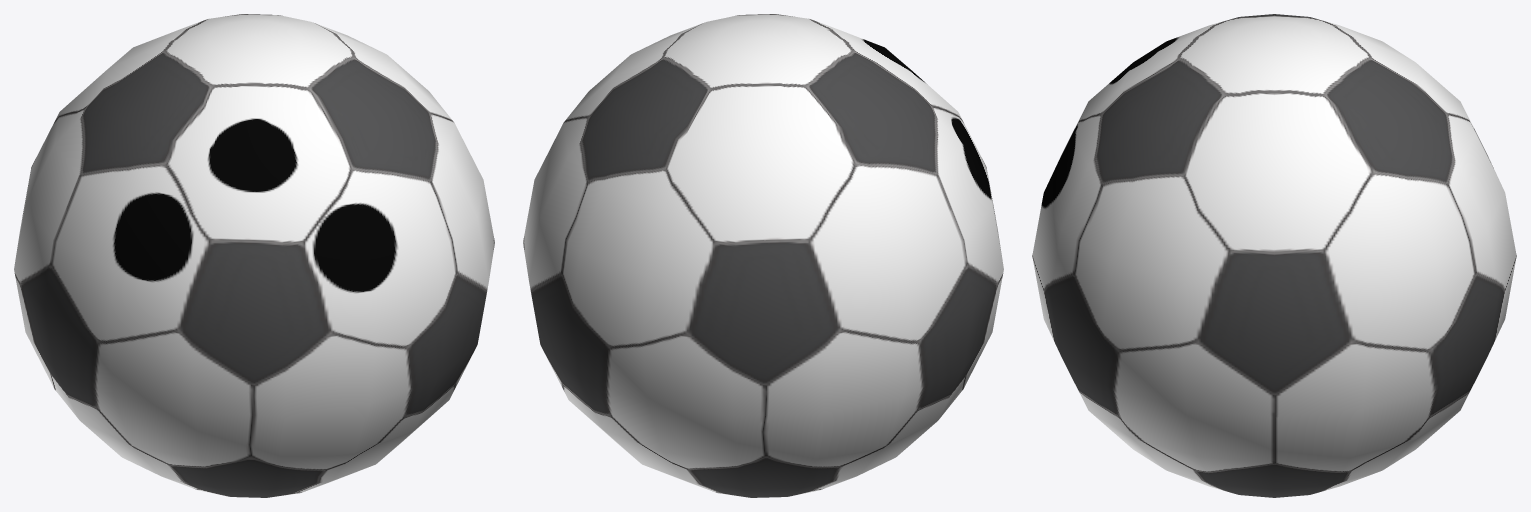
Rendered from qiu_04.FBX.
3 views of the same model, side by side, from view 1: azimuth 30°, elevation 25°; view 2: azimuth 150°, elevation 25°; view 3: azimuth 270°, elevation 25° (orthographic).
Parts seen in each view (by area): view 1: qiu_04; view 2: qiu_04; view 3: qiu_04.
Boxes of the visible parts, x1,y1,x2,y2 form: qiu_04: [14, 14, 494, 497]; qiu_04: [523, 14, 1003, 497]; qiu_04: [1032, 14, 1516, 497].
Size of the model in its own units: 588 by 588 by 588.
1 material, 1 textured.
